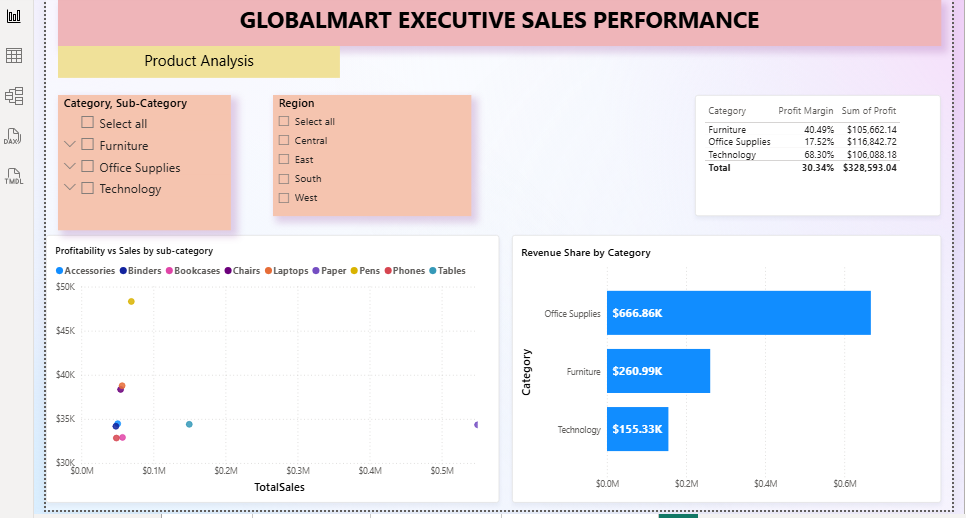

What the dashboard file says about the page in this screenshot:
{"tool":"powerbi","page":{"name":"Product Analysis","canvas":[1280,720],"ordinal":2},"visuals":[{"type":"clusteredBarChart","title":"Revenue Share by Category","fields":{"Category":["Product Table.Category","Product Table.Sub-Category"],"Y":["Sales Fact Table.TotalSales"]},"box":[657.9,331.8,605.6,378.4],"z":1},{"type":"scatterChart","title":"Profitability vs Sales by sub-category","fields":{"Category":["Product Table.Sub-Category"],"X":["Sales Fact Table.TotalSales"],"Y":["Sales Fact Table.Total Profit"],"Series":["Product Table.Sub-Category"]},"box":[0,331.8,639.5,378.4],"z":2},{"type":"slicer","fields":{"Values":["Product Table.Category","Product Table.Sub-Category"]},"box":[16.9,134.1,244.2,190.6],"z":3},{"type":"slicer","fields":{"Values":["Region table.Region"]},"box":[320.5,134.1,279.5,170.8],"z":4},{"type":"textbox","box":[16.9,0,1246.6,64.9],"z":5},{"type":"textbox","box":[16.9,64.9,398.1,45.2],"z":6},{"type":"tableEx","fields":{"Values":["Product Table.Category","Sales Fact Table.Profit Margin","Sum(Sales Fact Table.Profit)"]},"box":[916.2,134.1,347.3,170.8],"z":7}]}

Visuals, with their boxes on the page's 1280x720 design canvas (x1, y1, x2, y2). These are canvas units, not pixel positions in the 966x518 screenshot, which may show the page scaled, cropped or inside an application window:
"Revenue Share by Category" clusteredBarChart: [x1=658, y1=332, x2=1264, y2=710]
"Profitability vs Sales by sub-category" scatterChart: [x1=0, y1=332, x2=640, y2=710]
slicer - Product Table.Category x Product Table.Sub-Category: [x1=17, y1=134, x2=261, y2=325]
slicer - Region table.Region: [x1=320, y1=134, x2=600, y2=305]
textbox: [x1=17, y1=0, x2=1264, y2=65]
textbox: [x1=17, y1=65, x2=415, y2=110]
tableEx - Product Table.Category x Sales Fact Table.Profit Margin: [x1=916, y1=134, x2=1264, y2=305]
